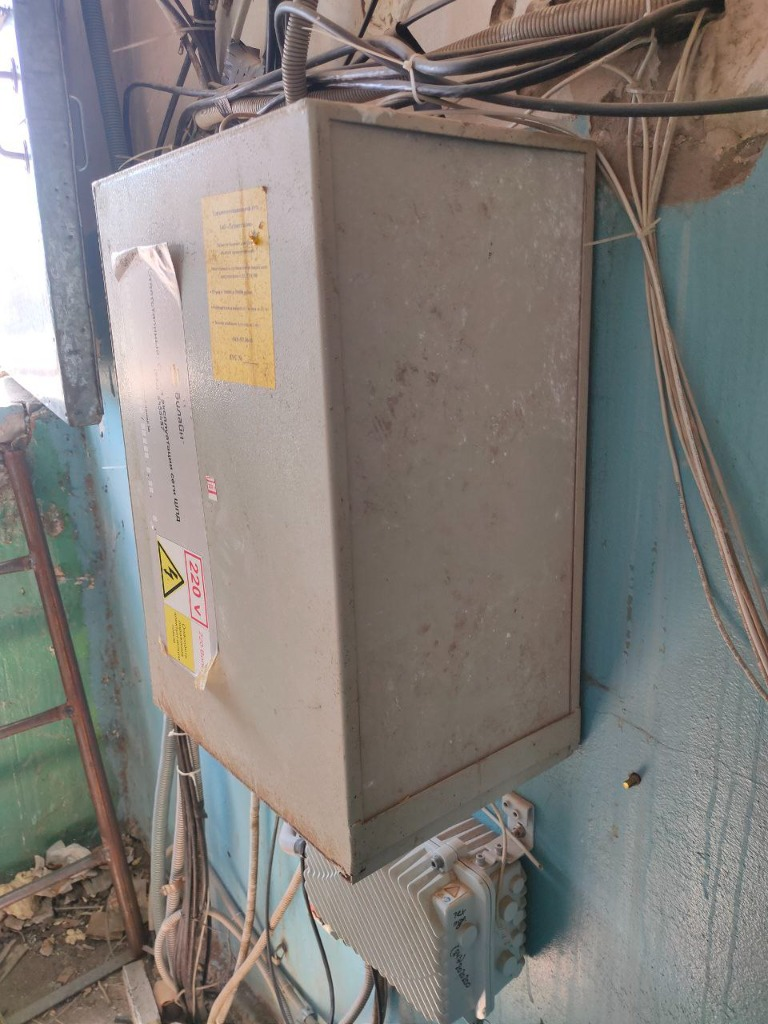sv-5: (84, 87, 602, 888)
